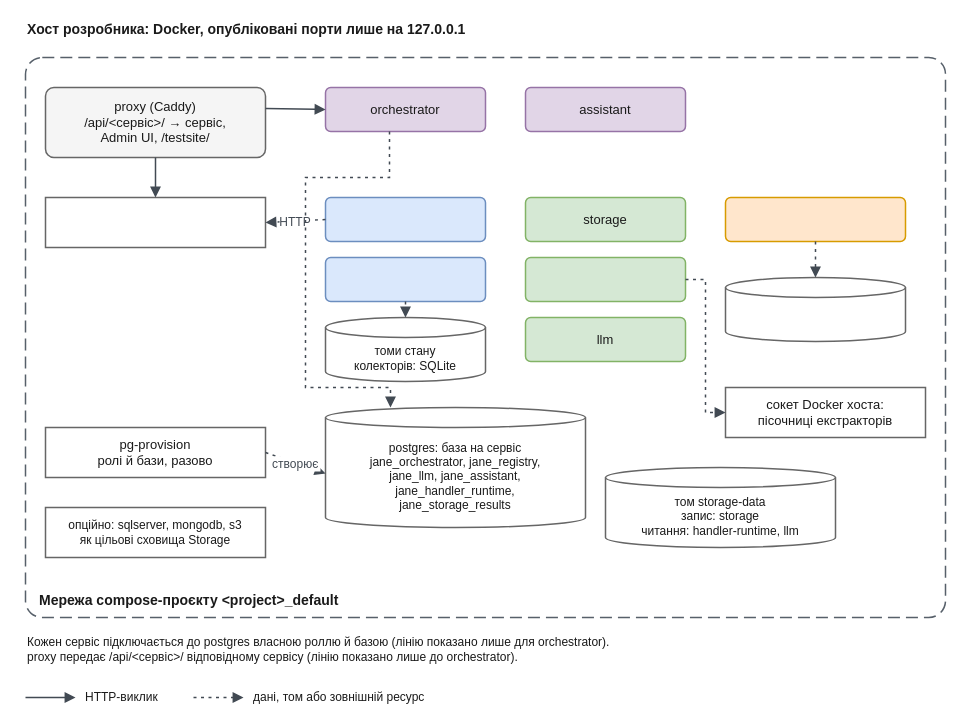
The diagram is 964 pixels wide and 724 high, and some of its shapes have lost their labels. Each missing label, with the centre of its shape:
"handler-runtime" goes at point 605,279.
"minio архіви пакетів" goes at point 815,309.
"registry" goes at point 815,219.
"telegram-collector" goes at point 405,279.
"testsite тестовий магазин" goes at point 155,222.
"web-collector" goes at point 405,219.
